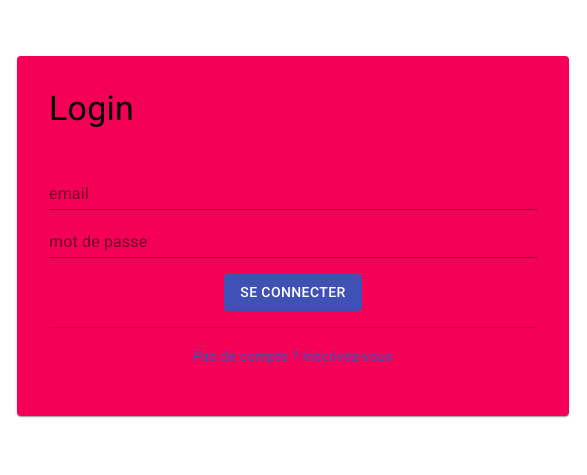
Test: Login form › throw errors if authentication error
Type "test@email.com" into the field labelled "email" at (293, 194), box [49,178,537,210]
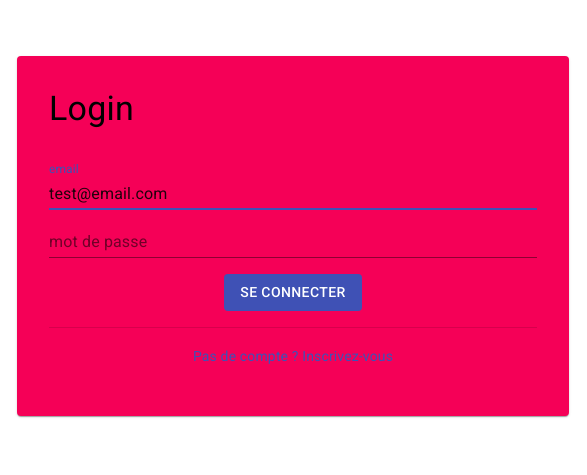
Type "wrongPwd" into the password field labelled "mot de passe" at (293, 242), box [49,226,537,258]
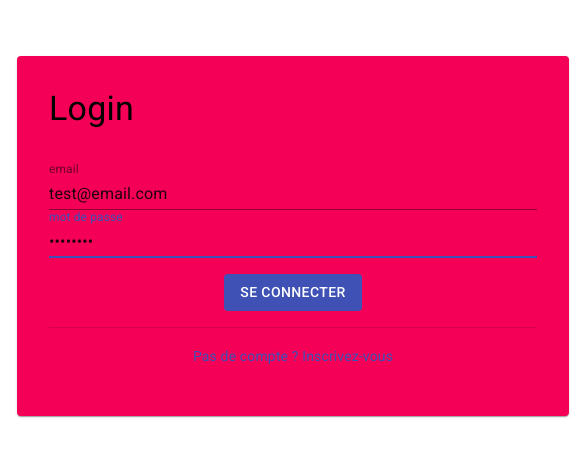
Click the button "Se connecter" at (293, 292), box [224,274,362,311]
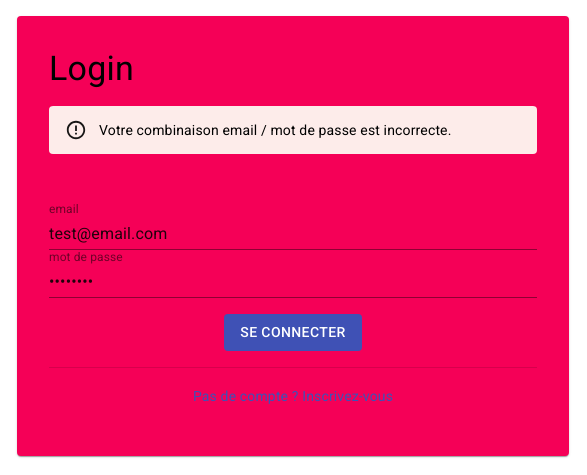
Now the text "Votre combinaison email / mot de passe est incorrecte." is shown, box [99,122,452,138]
